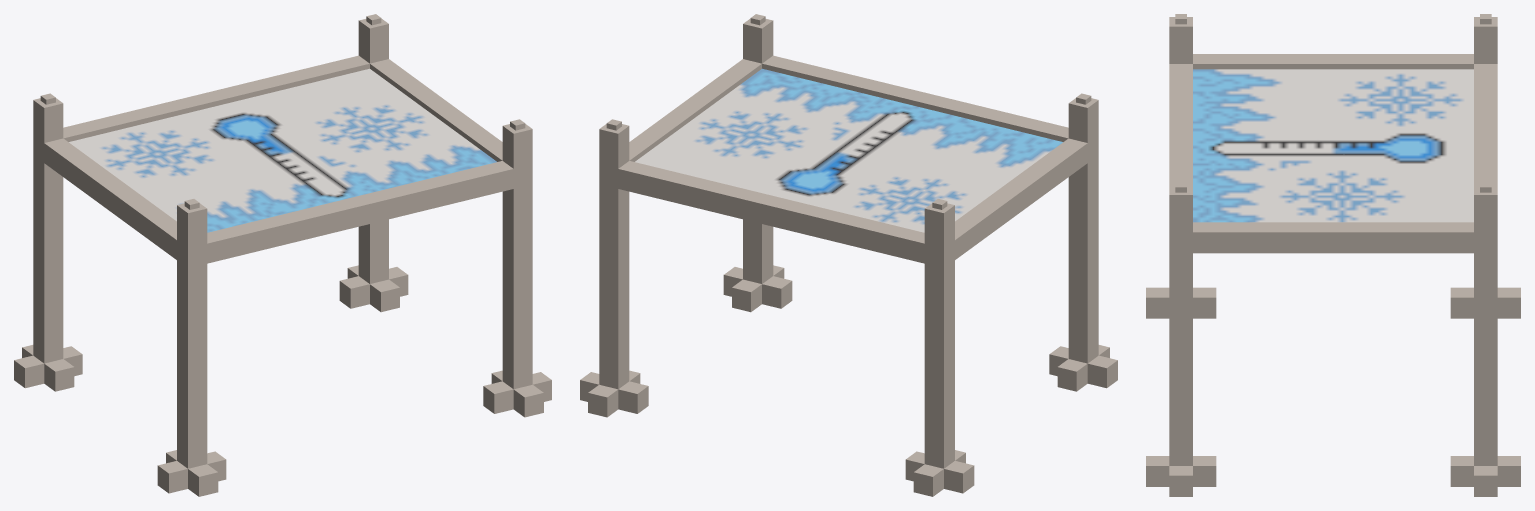
Rendered from BanderaCold.dae.
3 renders of one model, left to right at view 1: azimuth 30°, elevation 25°; view 2: azimuth 150°, elevation 25°; view 3: azimuth 270°, elevation 25°, orthographic. The views are drawn at different scales.
Visible parts, largest first — view 1: BanderaReciclar; view 2: BanderaReciclar; view 3: BanderaReciclar.
Boxes of the visible parts, box(x1,y1,x2,y2) form: BanderaReciclar: box(14, 14, 551, 496); BanderaReciclar: box(580, 14, 1117, 496); BanderaReciclar: box(1146, 14, 1520, 496).
Bounding box in the file's own units: 80 × 56 × 64.
1 material, 1 textured.
